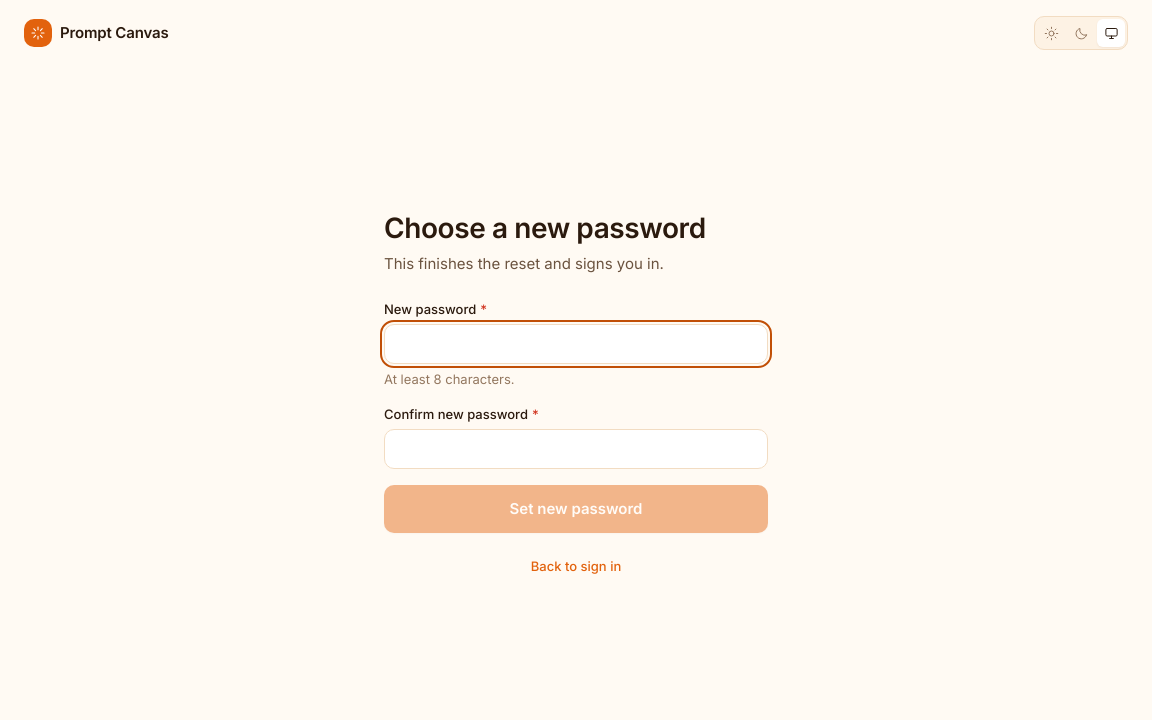
it: completing a reset › offers a fresh link when the token is rejected
Type "a-brand-new-passphrase" into the password field labelled "New password*".
click(576, 344); type("a-brand-new-passphrase")  # box 384,324 -> 768,364
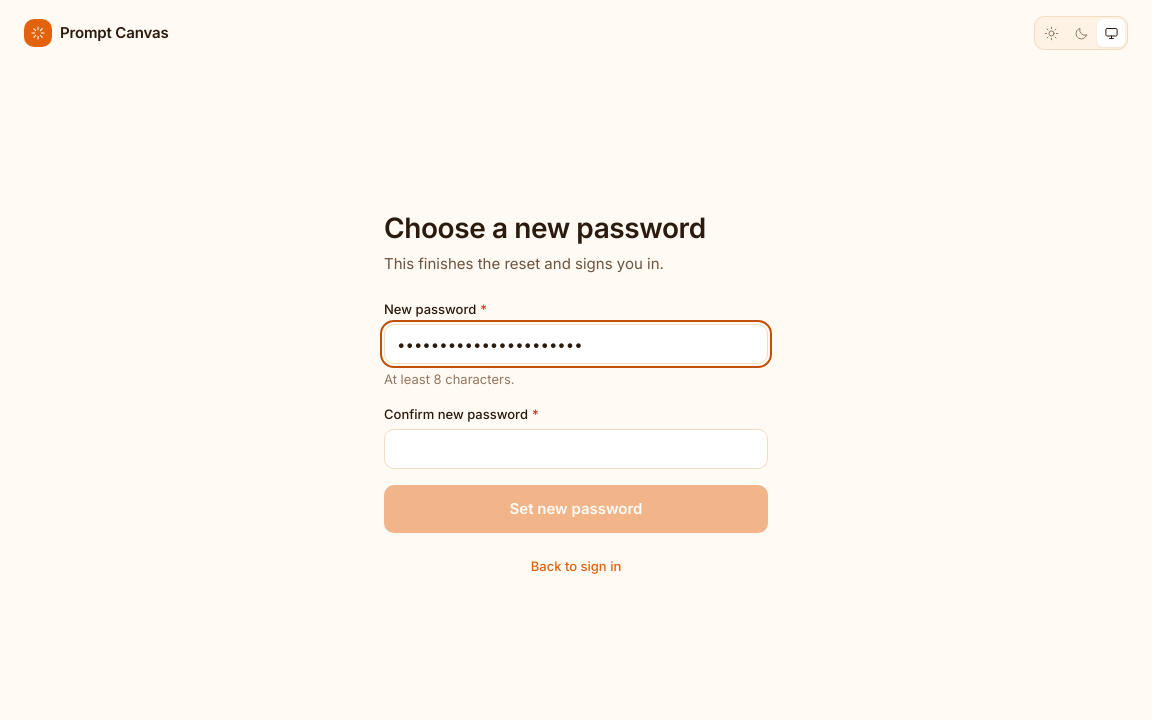
Type "a-brand-new-passphrase" into the password field labelled "Confirm new password*".
click(576, 450); type("a-brand-new-passphrase")  # box 384,430 -> 768,470
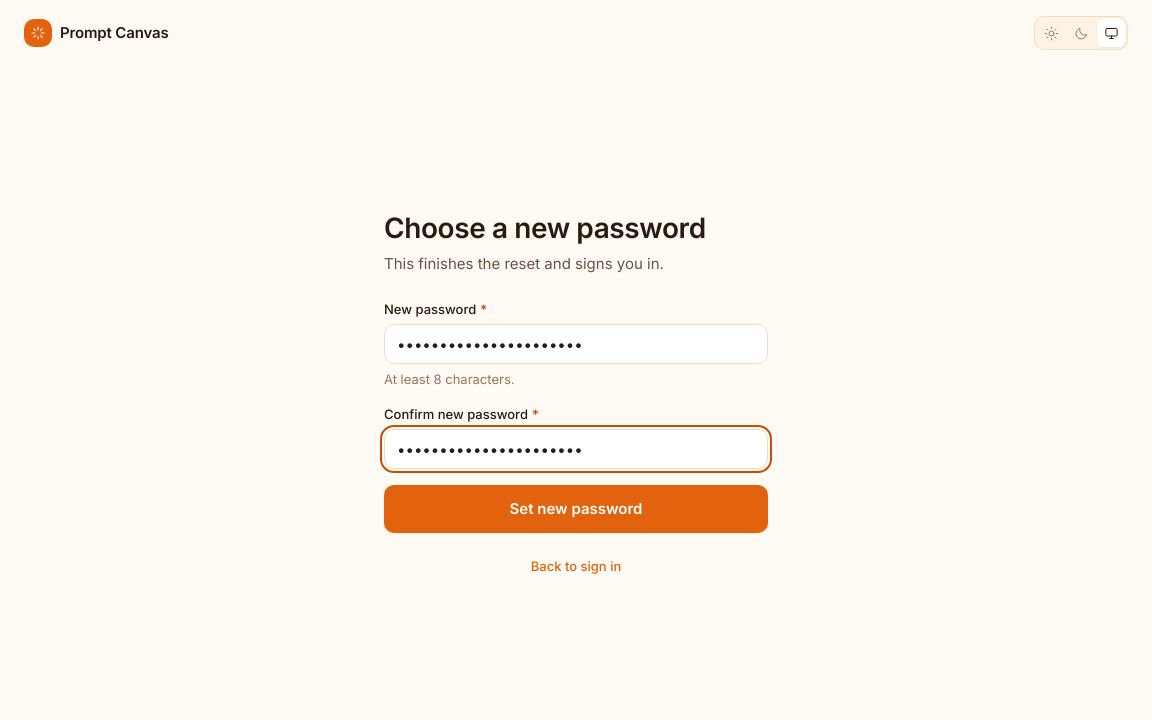
Click the button "Set new password".
click(576, 510)  # box 384,486 -> 768,534
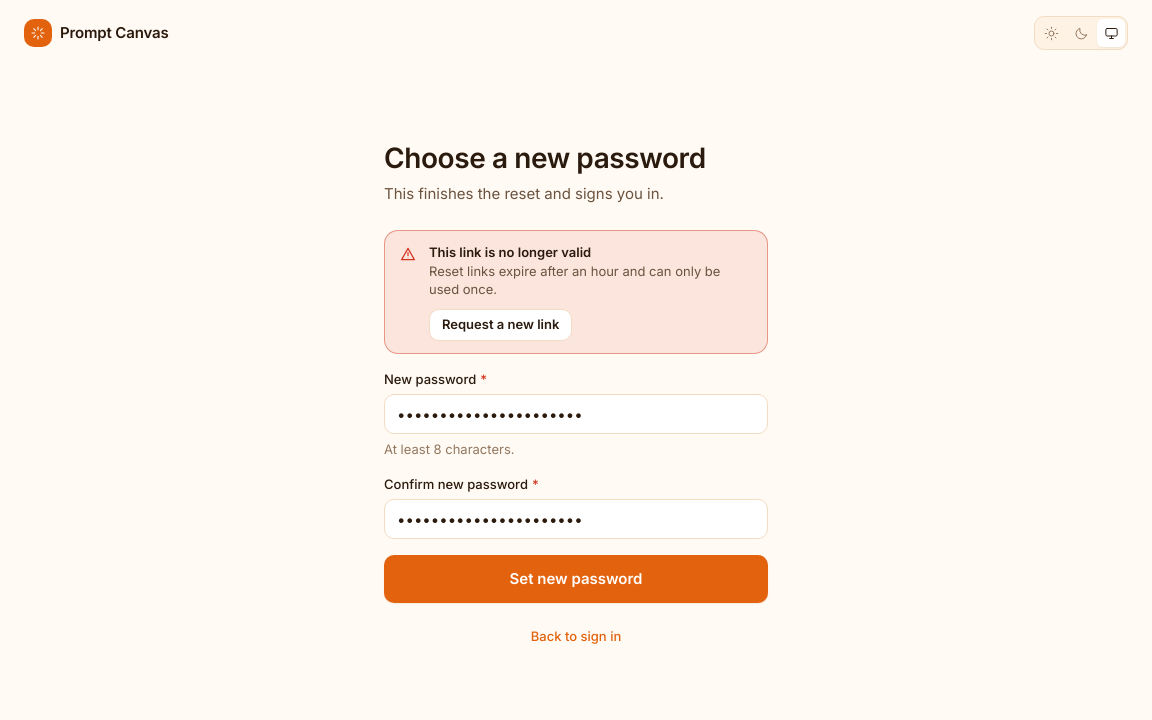
Check: the text "This link is no longer valid" is shown, box 429,244 -> 591,260
Check: the button "Request a new link" is shown, box 429,309 -> 572,341
